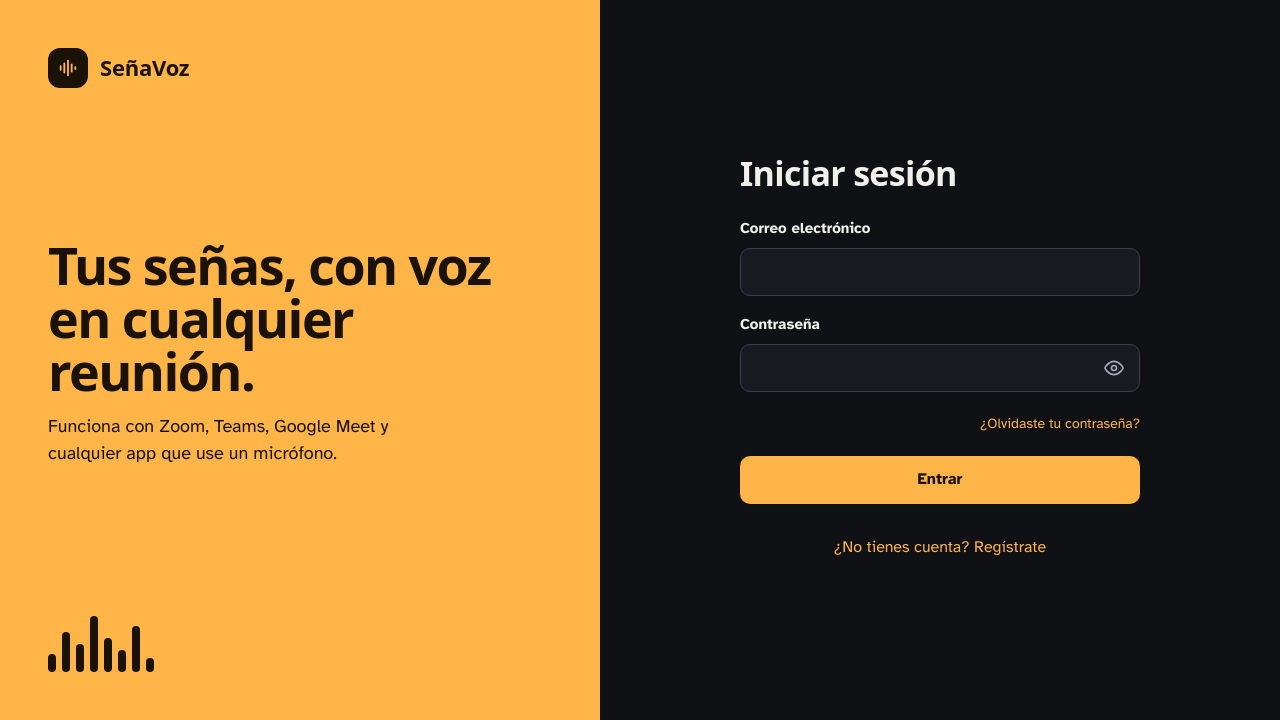
pantalla de login › muestra un error de red si el servidor no responde
Step 1. Type "ana@example.com" into the field labelled "Correo electrónico" → (940, 272), box [740, 248, 1140, 296]
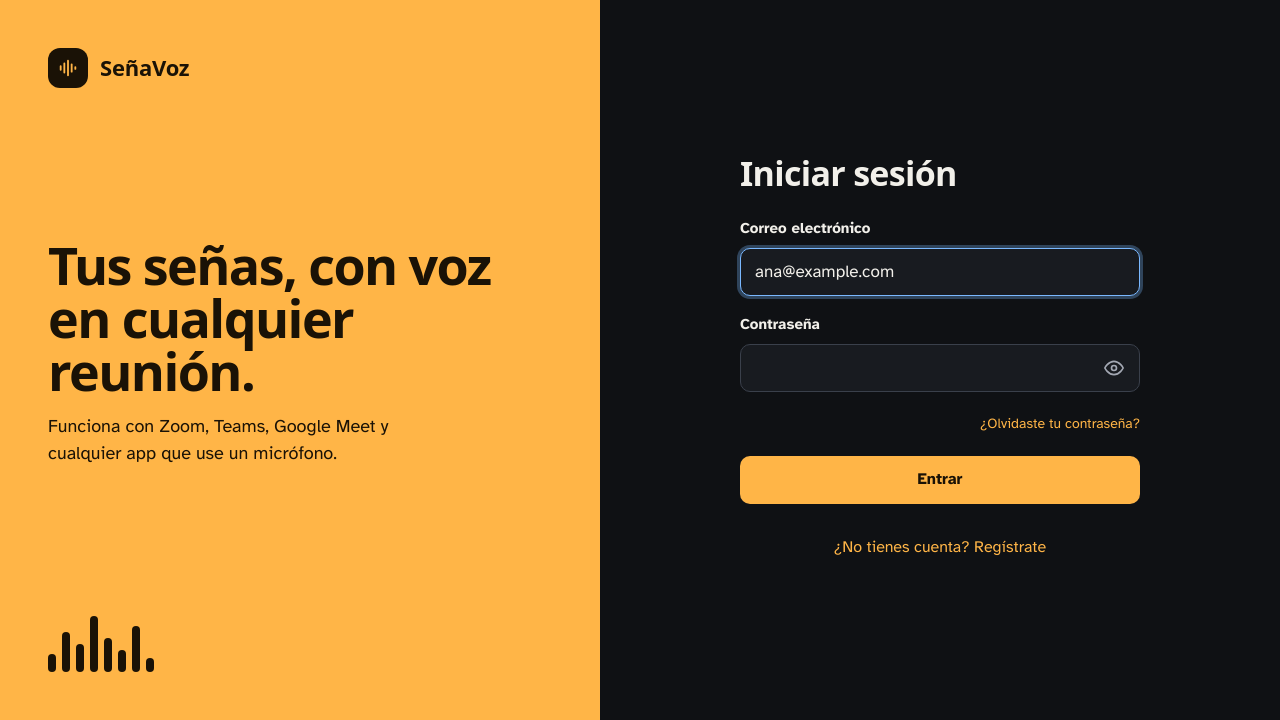
Step 2. Type "clave1234" into the password field labelled "Contraseña" → (940, 368), box [740, 344, 1140, 392]
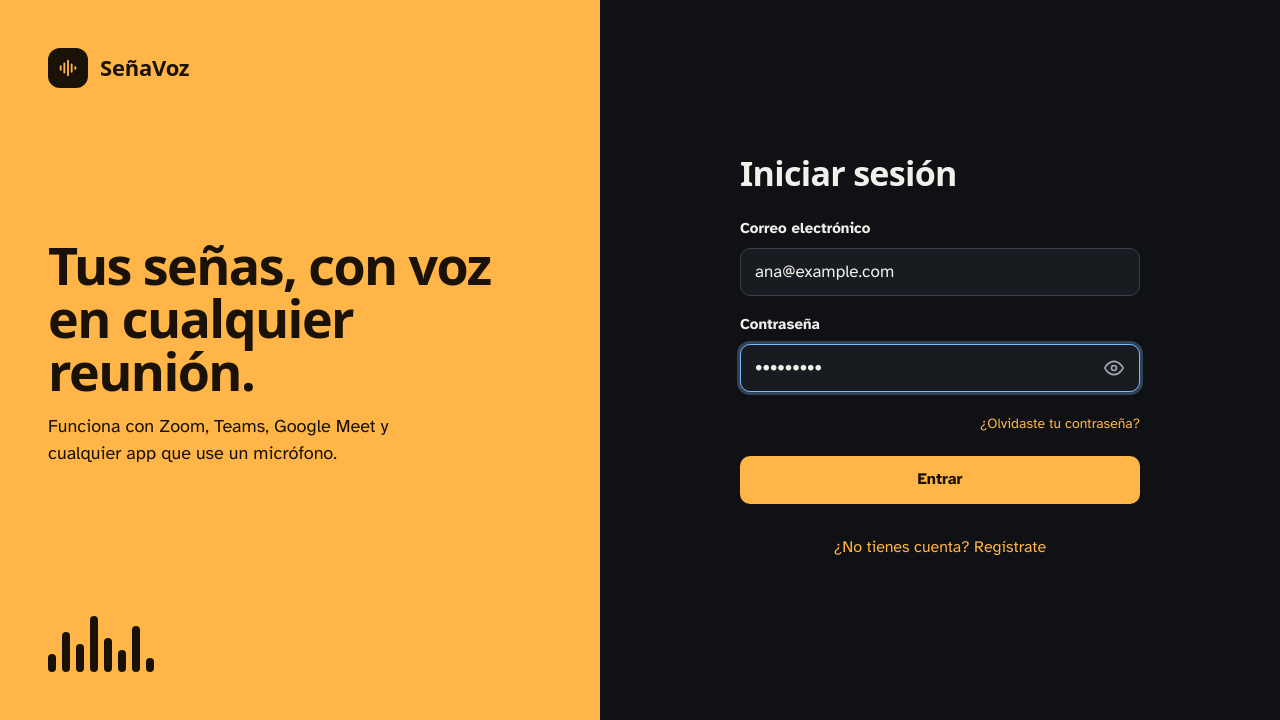
Step 3. Click the button "Entrar" → click(940, 480), box [740, 456, 1140, 504]
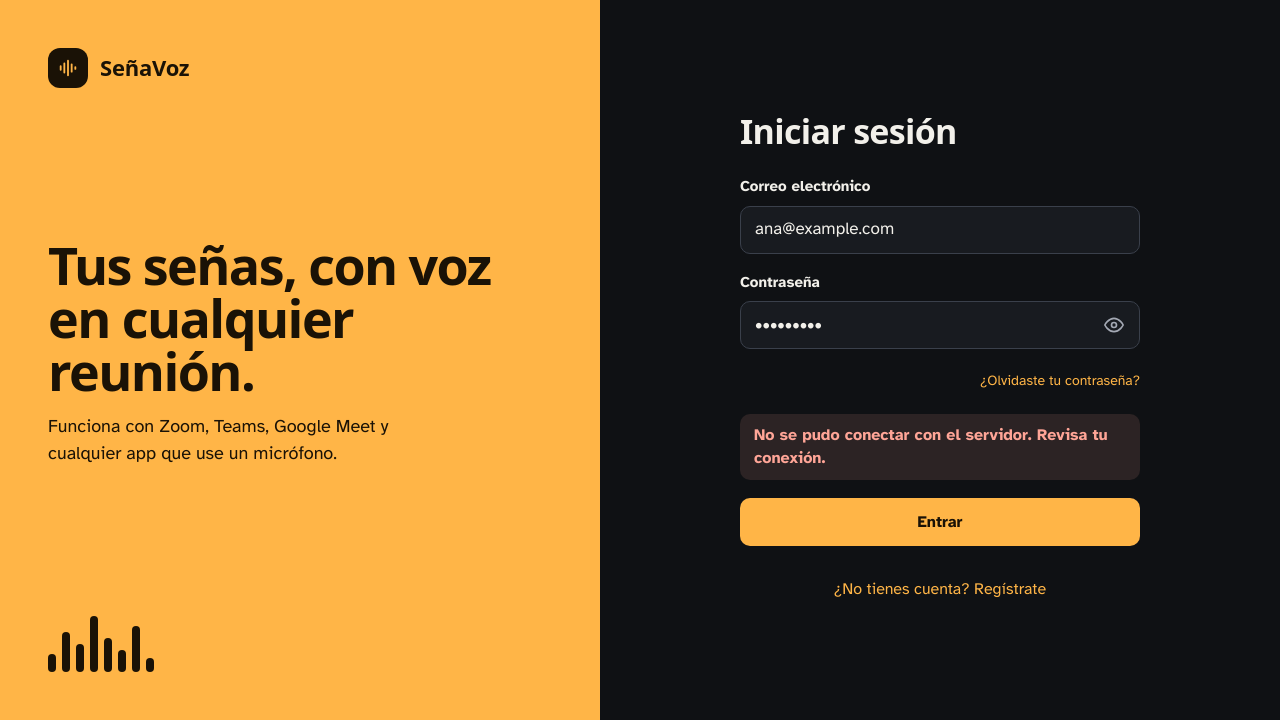
Now the message shows "No se pudo conectar con el servidor", box [754, 425, 1108, 468]
